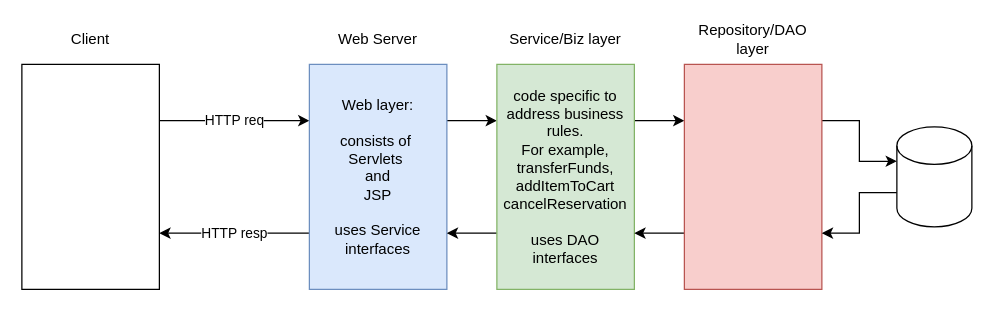
Image size: 994x311. Some labels were removed from this diagram. Each missing label, with the centre of its shape:
"browser/ mobile app/ desktop app" goes at (90,176).
"code to access secondary storage, usually DBMS CRUD Queries" goes at (752,176).
